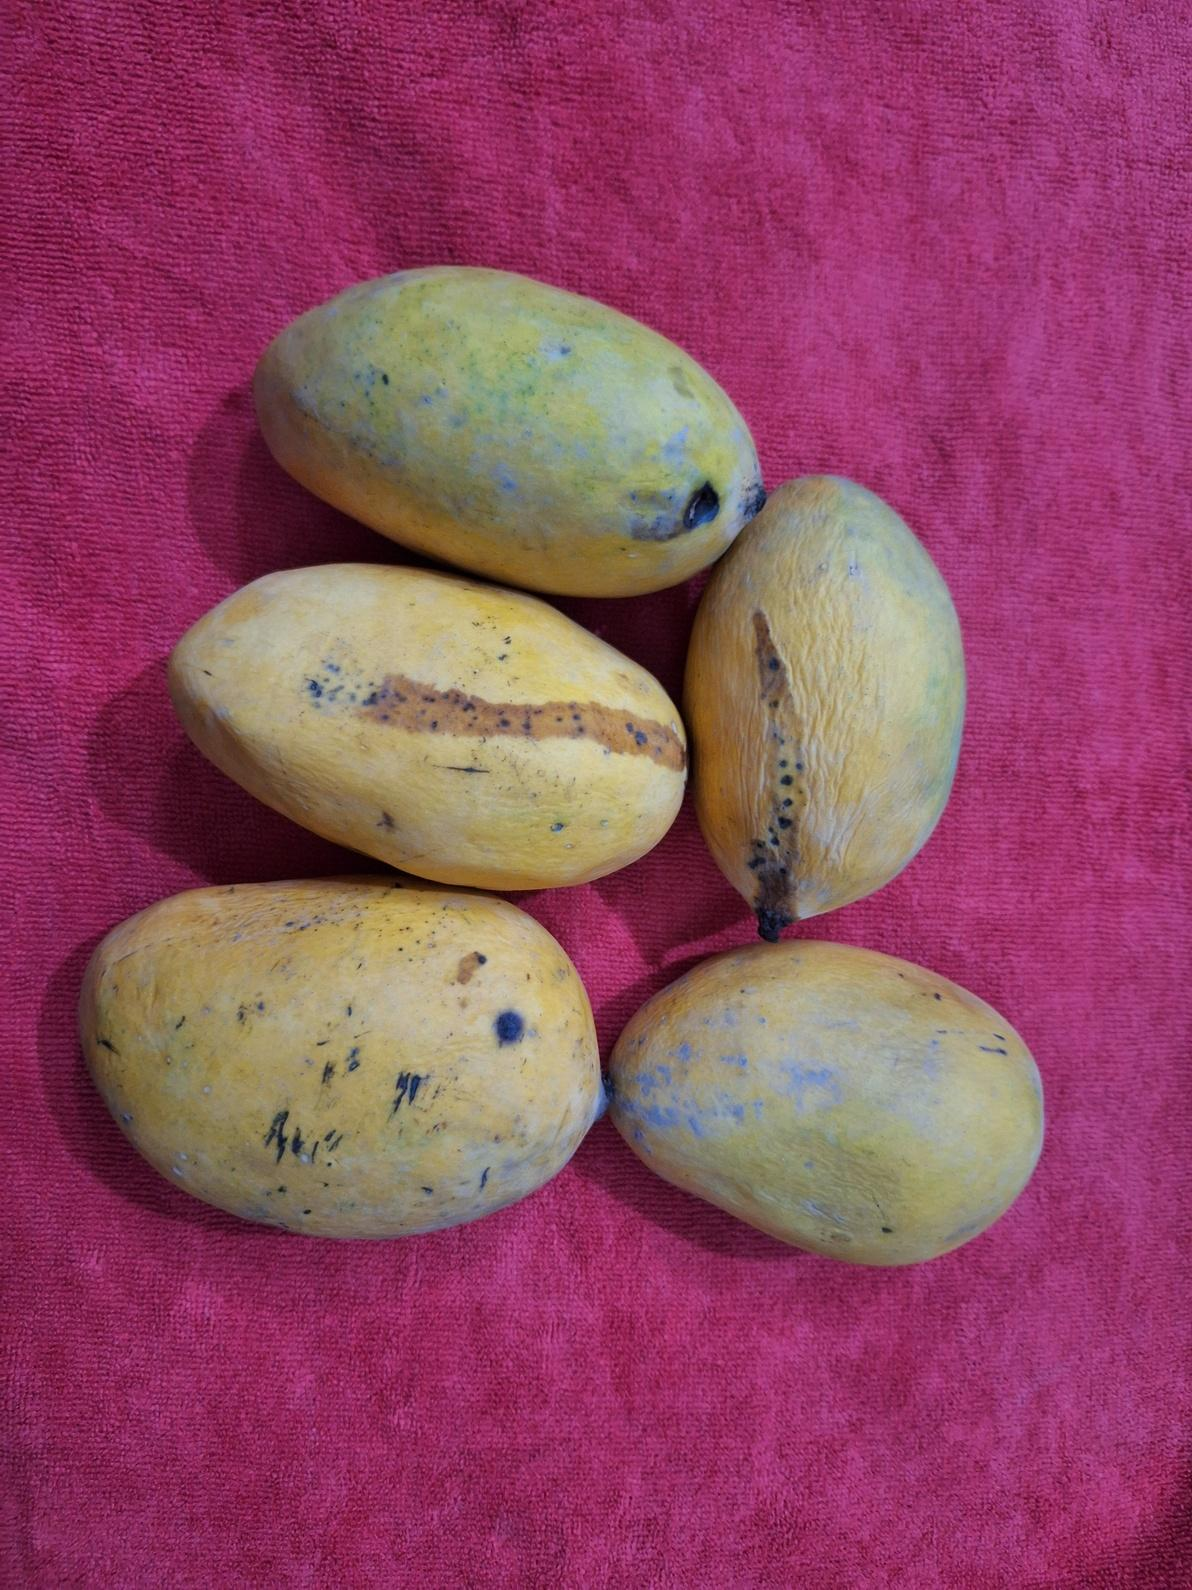mango: (76, 874, 607, 1239), (250, 260, 768, 598), (167, 558, 689, 891), (606, 936, 1046, 1267), (682, 471, 967, 941)
